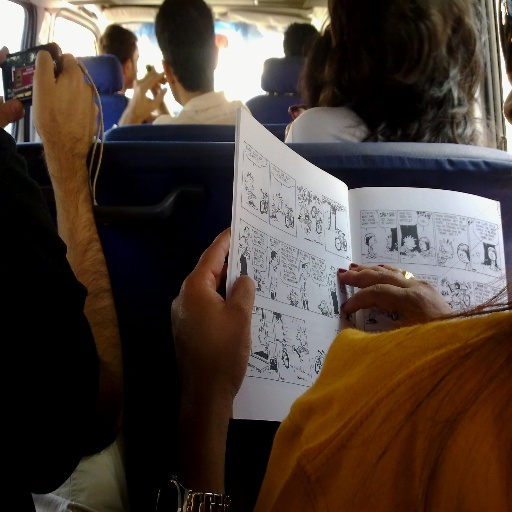hand: (169, 225, 257, 405), (329, 269, 451, 336), (30, 50, 100, 165), (0, 44, 25, 126), (129, 69, 165, 115), (146, 64, 164, 111), (283, 107, 305, 138), (214, 32, 227, 69)
